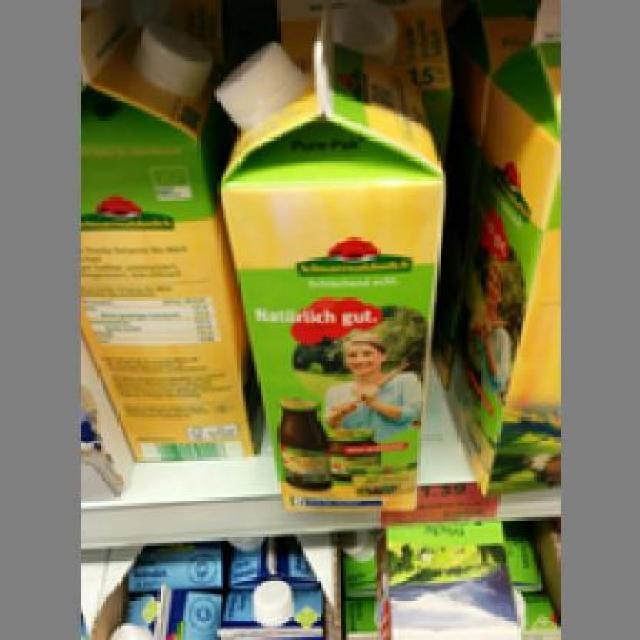Milk: (217, 14, 446, 517)
